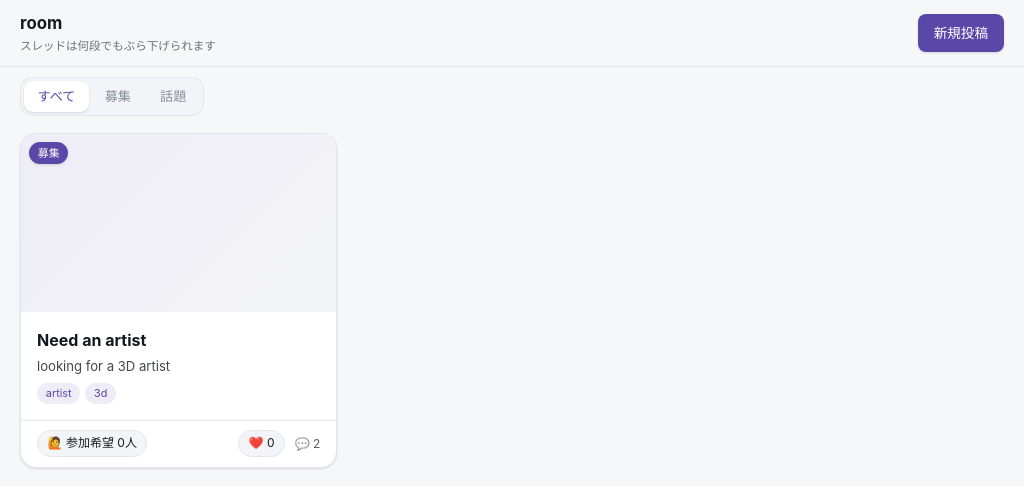
ProjectBoard (recursive rendering) › filters to 話題 hides the project root
Step 1. Click the tab "話題" → point(173, 96), box [146, 81, 200, 112]
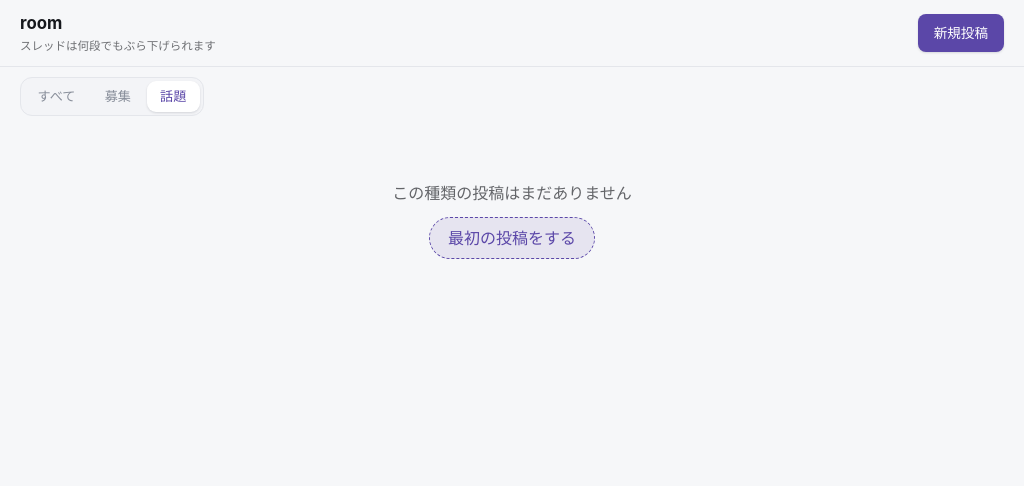
Now the heading "Need an artist" is gone
